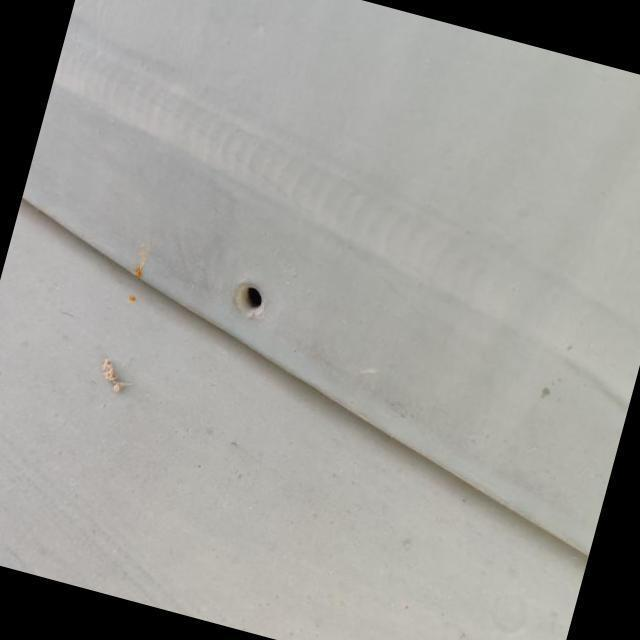Missing Fastener: (223, 272, 277, 324)
